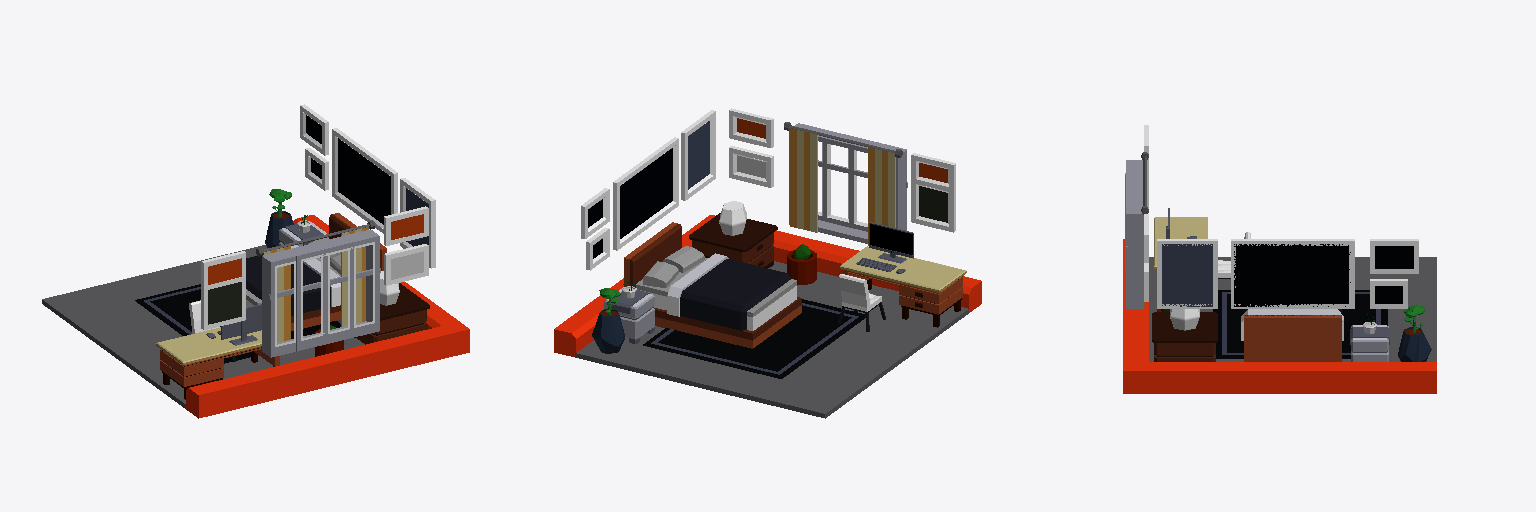
The model's file is Bedroom.obj.
The picture shows the model from 3 angles: view 1: azimuth 30°, elevation 25°; view 2: azimuth 150°, elevation 25°; view 3: azimuth 270°, elevation 25°; orthographic projection.
Parts seen in each view (by area): view 1: tst1, tst4, tst8, tst14, tst3, tst9, tst17, tst5, tst10, tst2, tst15; view 2: tst1, tst4, tst3, tst17, tst9, tst14, tst8, tst5, tst15, tst2, tst10, tst21 (+3 smaller); view 3: tst4, tst1, tst3, tst5, tst17, tst8, tst15, tst2, tst14, tst20.
Part boxes in pixels (x1,y1,x2,y2): tst1: (42,215,469,418); tst4: (201,104,435,329); tst8: (262,230,380,357); tst14: (156,327,279,399); tst3: (246,213,386,330); tst9: (256,220,374,342); tst17: (135,284,340,363); tst5: (354,283,429,344); tst10: (221,304,261,345); tst2: (265,189,293,247); tst15: (279,221,328,246); tst1: (554,215,981,418); tst4: (581,108,955,270); tst3: (624,222,801,348); tst17: (643,299,864,378); tst9: (784,122,902,245); tst14: (840,246,966,327); tst8: (789,123,907,243); tst5: (689,213,777,267); tst15: (604,287,654,343); tst2: (592,288,624,353); tst10: (869,222,913,263); tst21: (643,246,704,287); tst4: (1144,125,1418,308); tst1: (1123,239,1436,393); tst3: (1241,309,1343,361); tst5: (1152,312,1217,361); tst17: (1213,290,1387,358); tst8: (1125,160,1143,308); tst15: (1350,325,1389,361); tst2: (1398,305,1431,361); tst14: (1154,217,1207,268); tst20: (1170,309,1199,330).
Size of the model in its own units: 30.5 by 15.5 by 30.5.